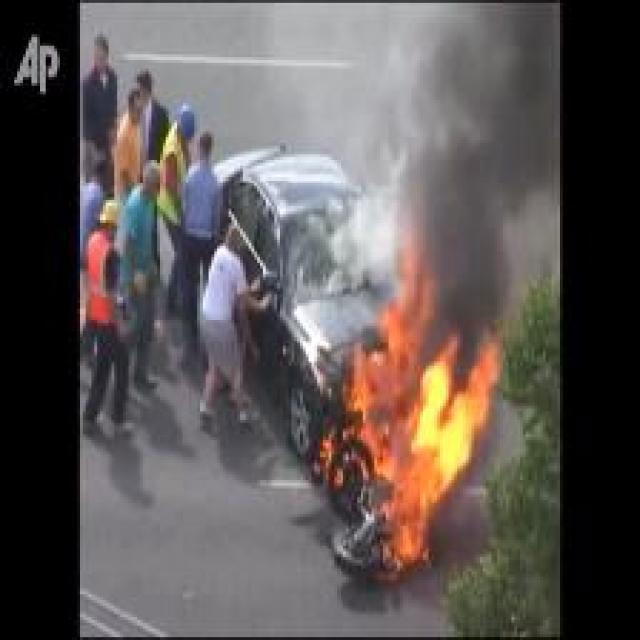Fire: (344, 224, 498, 570)
